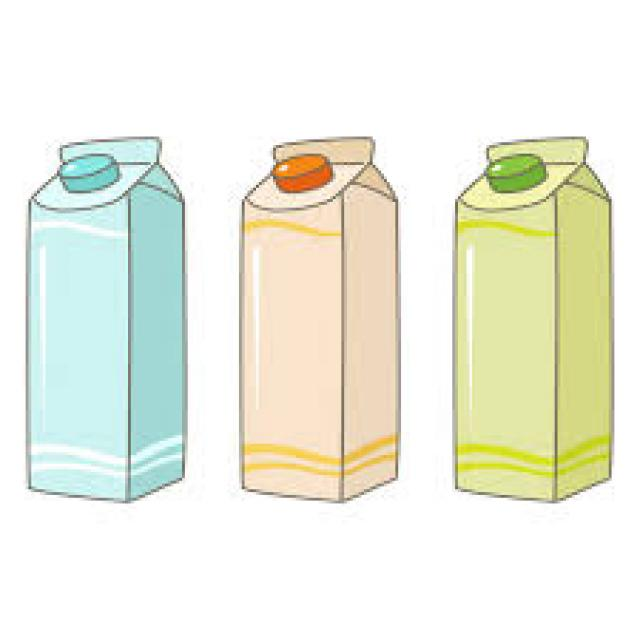non_white_jug: (22, 127, 208, 522), (232, 129, 405, 525), (448, 135, 616, 514)
